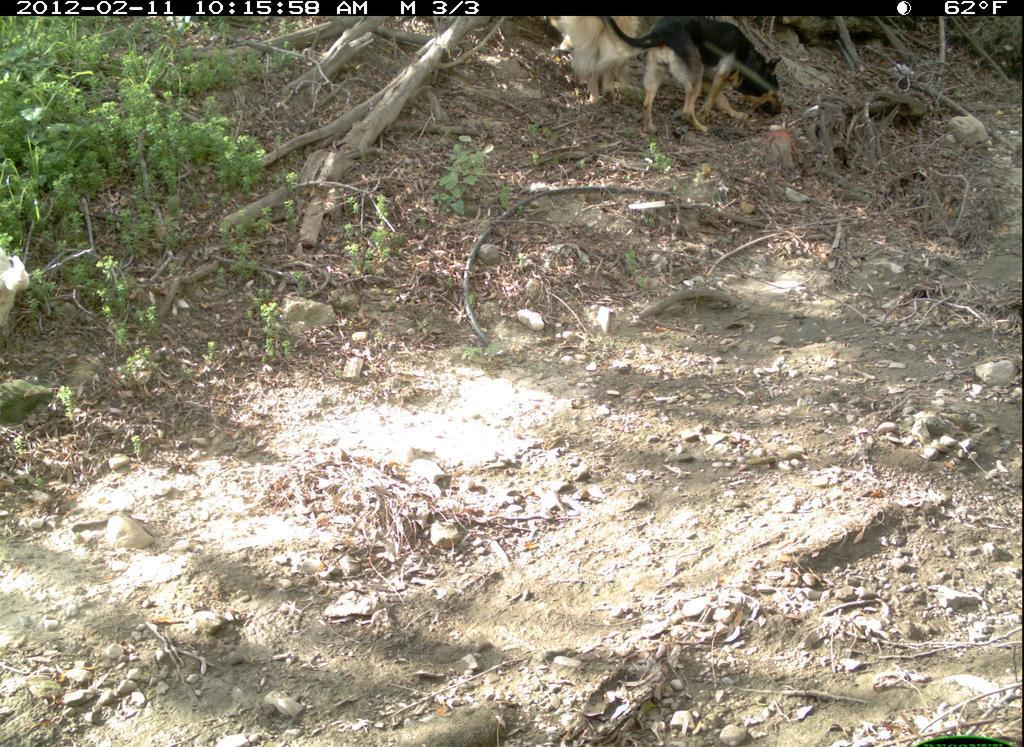dog: (603, 13, 804, 143)
